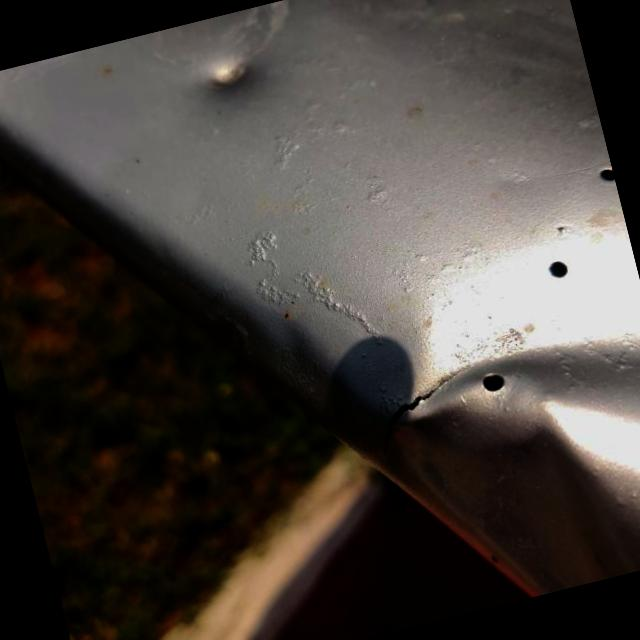crack: (358, 356, 482, 464)
dent: (339, 267, 640, 627), (166, 16, 294, 135)
